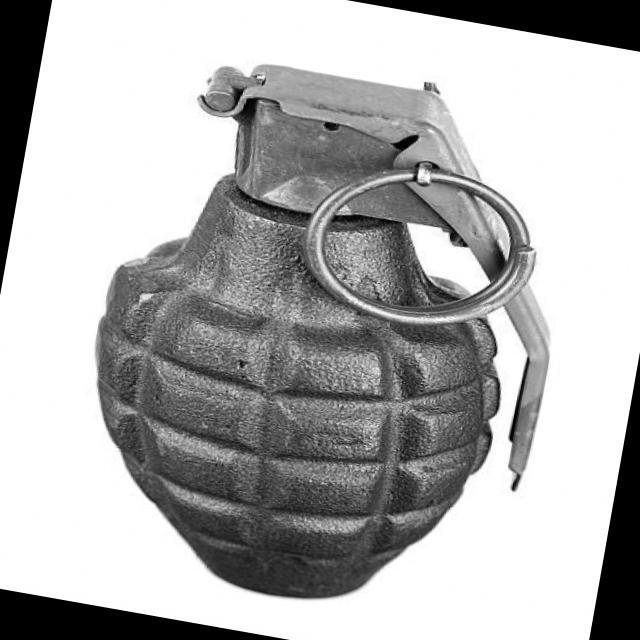grenade: (45, 24, 610, 640)
